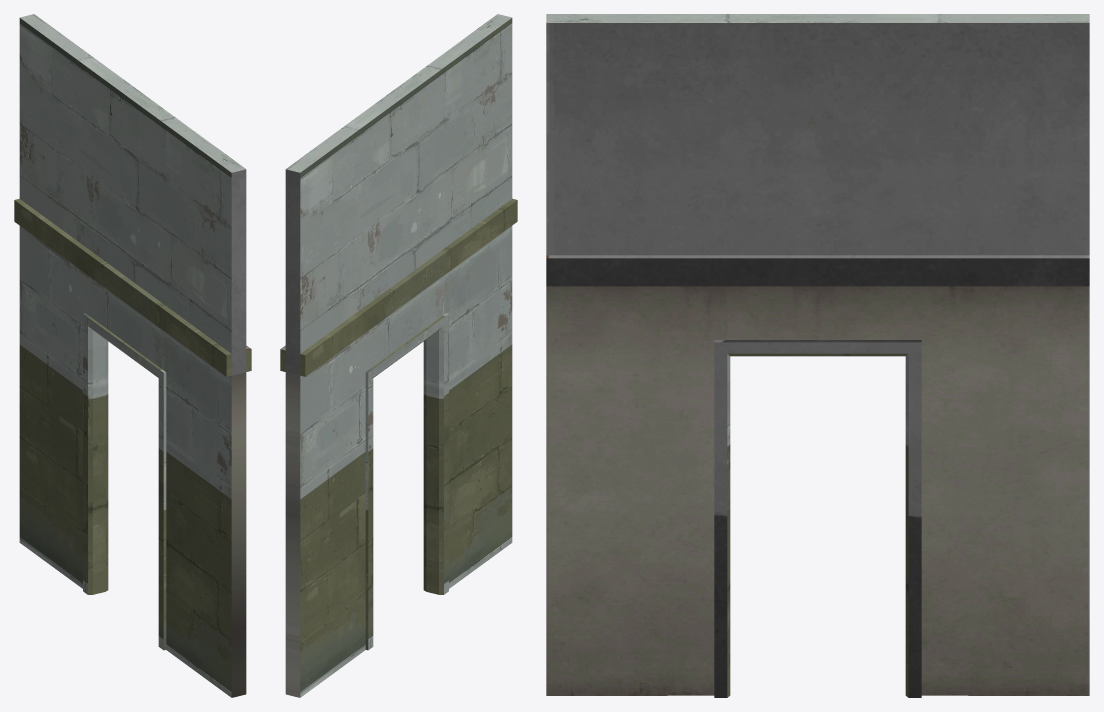
The model's file is Door_Wall.fbx.
The picture shows the model from 3 angles, left to right: view 1: azimuth 30°, elevation 25°; view 2: azimuth 150°, elevation 25°; view 3: azimuth 270°, elevation 25°; orthographic projection. The views are drawn at different scales.
Visible parts, largest first — view 1: Door_Wall.001; view 2: Door_Wall.001; view 3: Door_Wall.001.
Boxes of the visible parts, x1,y1,x2,y2 form: Door_Wall.001: (14, 14, 251, 697); Door_Wall.001: (280, 14, 517, 697); Door_Wall.001: (546, 14, 1089, 697).
Size of the model in its own units: 0.4076 by 8.13 by 5.96.
